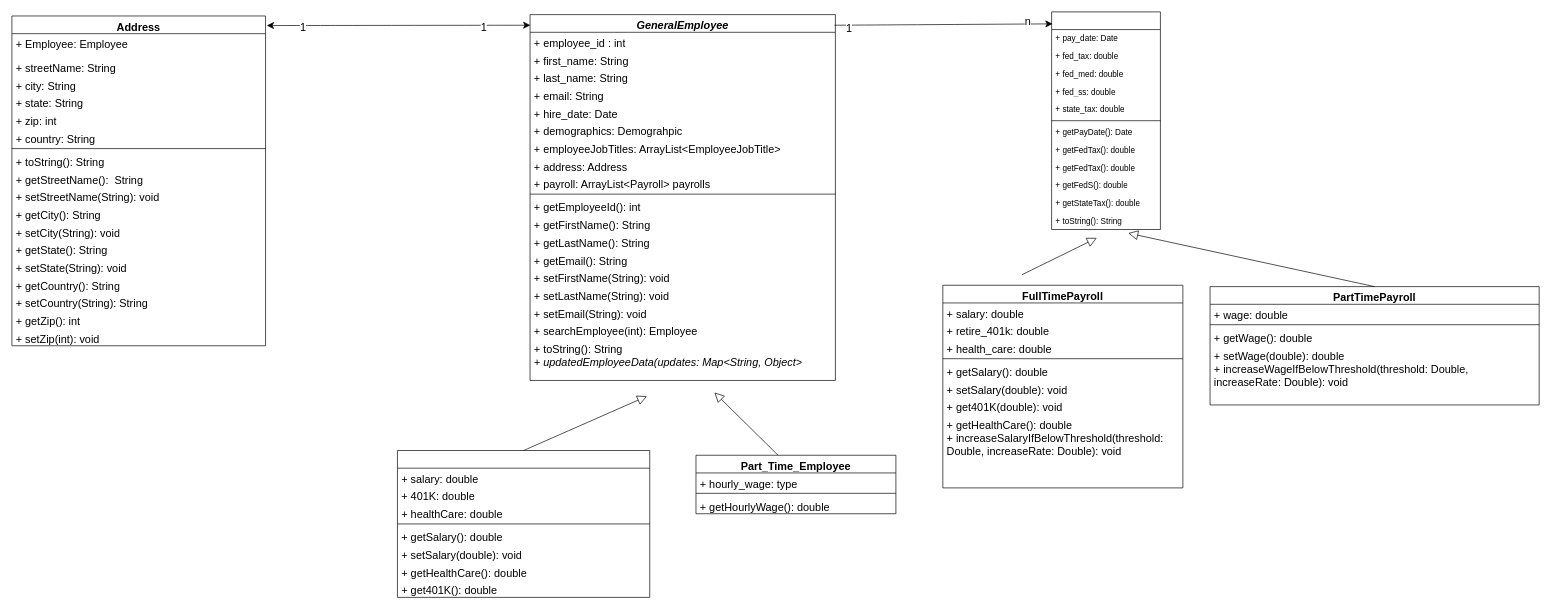
This 1551x611 diagram has some shape labels left out. The box of each missing label's shape, as (x1, y1, x2, y2) in pixels:
Fulltime_Employee: (397, 450, 650, 597)
Payroll: (1051, 11, 1160, 230)
